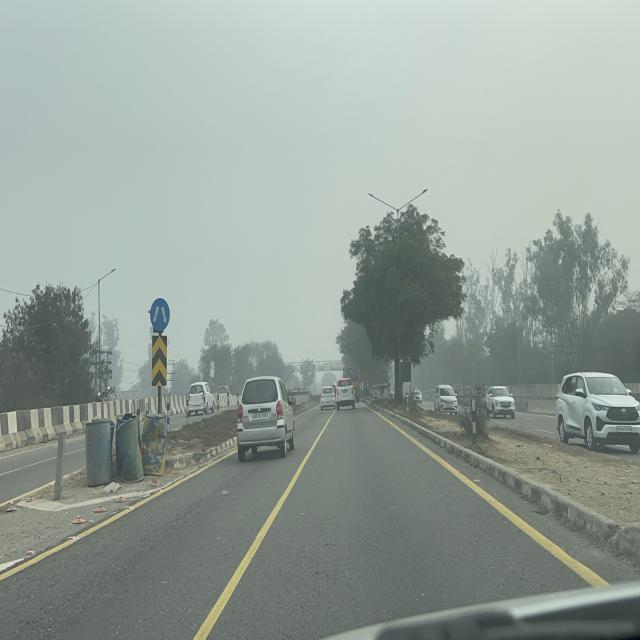KEEP_EITHER_SIDE: (150, 298, 170, 332)
